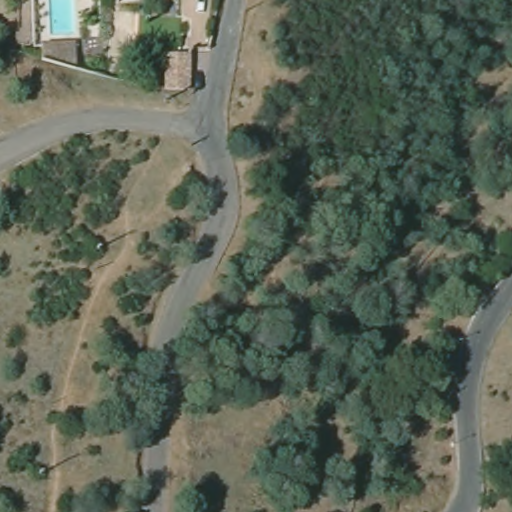pool: (43, 1, 79, 39)
